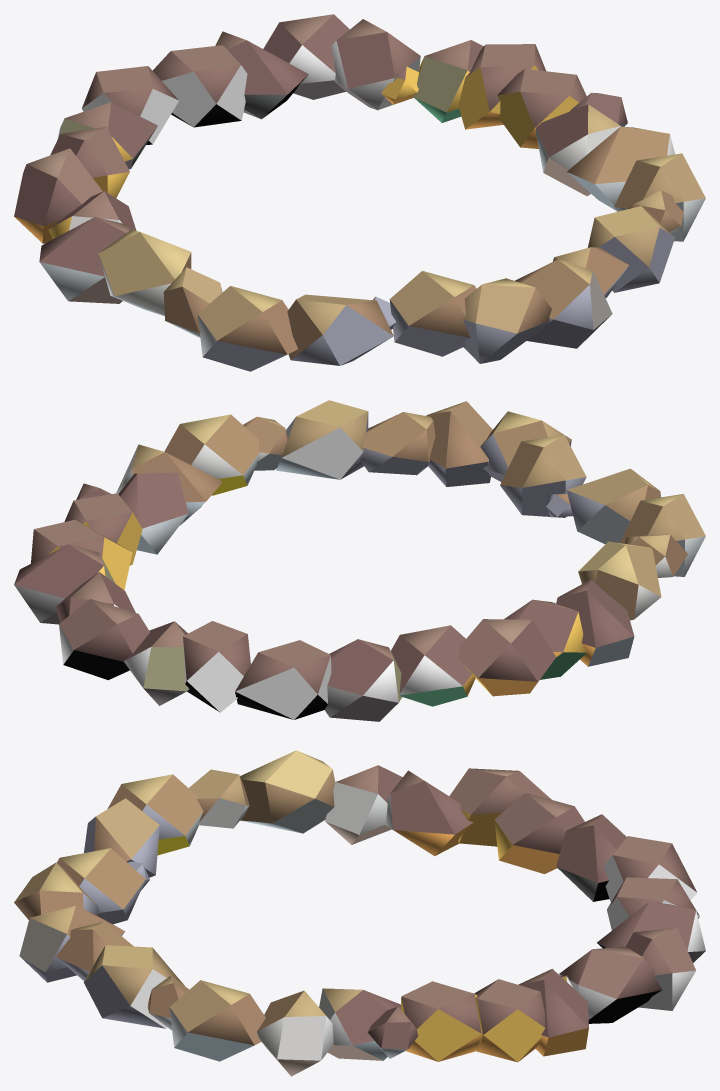
The model's file is pond_rocks.glb.
3 views of the same model, one above another, from view 1: azimuth 30°, elevation 25°; view 2: azimuth 150°, elevation 25°; view 3: azimuth 270°, elevation 25° (orthographic). The views are drawn at different scales.
Visible parts, largest first — view 1: Pond_Rocks.001; view 2: Pond_Rocks.001; view 3: Pond_Rocks.001.
Boxes of the visible parts, box(x1,y1,x2,y2) form: Pond_Rocks.001: box(14, 14, 705, 371); Pond_Rocks.001: box(14, 400, 705, 721); Pond_Rocks.001: box(14, 750, 705, 1076).
Bounding box in the file's own units: 2.48 × 0.385 × 2.66.
